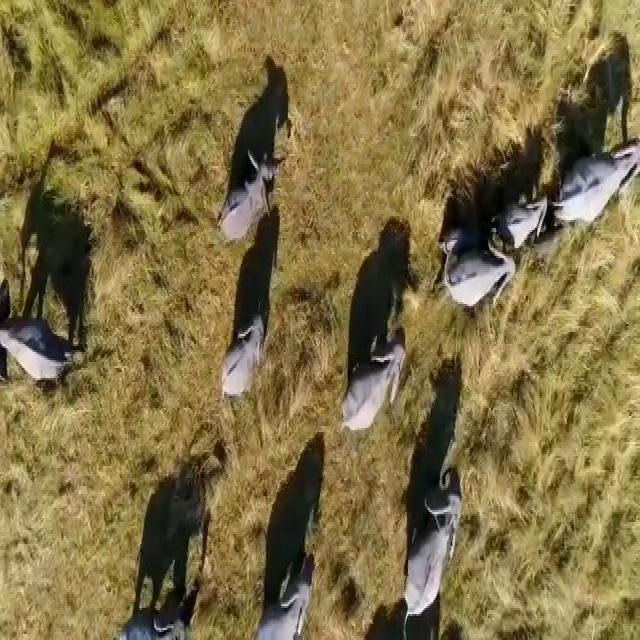Elephant: (396, 476, 462, 640), (1, 264, 69, 412), (438, 213, 518, 319), (337, 339, 411, 445), (558, 146, 640, 240), (218, 162, 279, 256), (216, 316, 272, 397), (123, 586, 191, 640), (264, 566, 312, 640), (507, 185, 549, 247), (428, 202, 469, 256)
